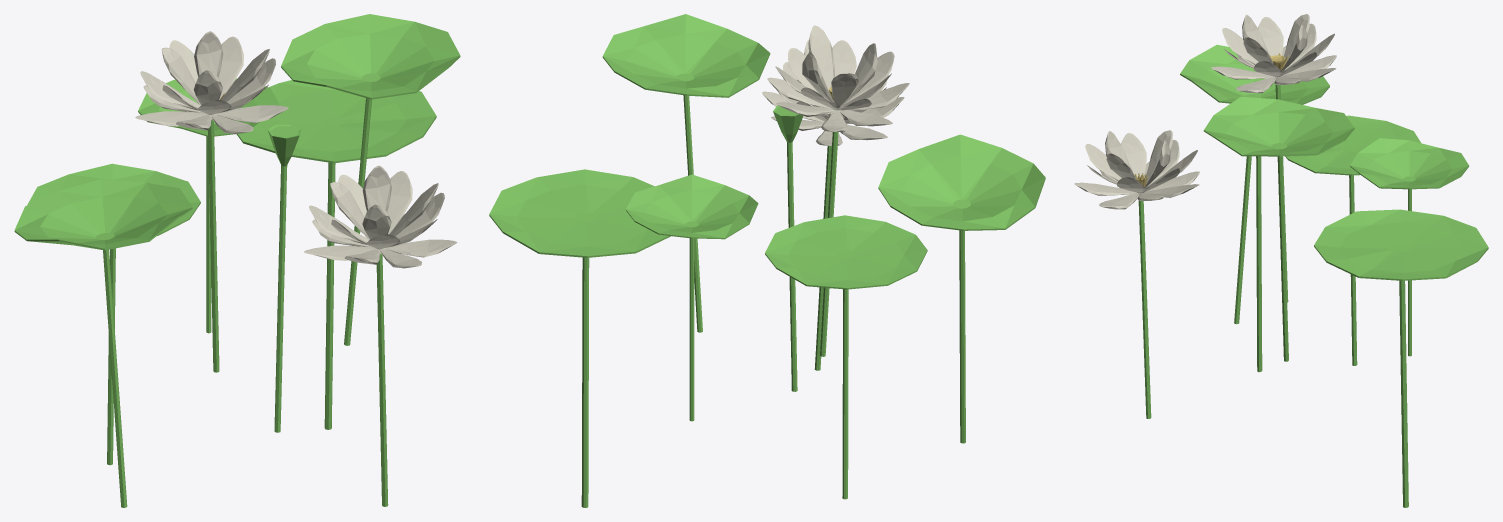
Rendered from lotusScene.dae.
3 renders of one model, left to right at view 1: azimuth 30°, elevation 25°; view 2: azimuth 150°, elevation 25°; view 3: azimuth 270°, elevation 25°, orthographic. The views are drawn at different scales.
Visible parts, largest first — view 1: Cylinder_007, Cylinder, Cylinder_013, Cylinder_015, Cylinder_005, Cylinder_002, Cylinder_011, Cylinder_012, Cylinder_003, Cylinder_014, Cylinder_009, Cylinder_006 (+2 smaller); view 2: Cylinder, Cylinder_013, Cylinder_007, Cylinder_011, Cylinder_005, Cylinder_009, Cylinder_015, Cylinder_002, Cylinder_012, Cylinder_010, Cylinder_008, Cylinder_006 (+2 smaller); view 3: Cylinder_013, Cylinder_007, Cylinder_015, Cylinder_005, Cylinder_009, Cylinder, Cylinder_011, Cylinder_012, Cylinder_014, Cylinder_002, Cylinder_006, Cylinder_010.
Boxes of the visible parts, x1,y1,x2,y2 form: Cylinder_007: [281, 14, 460, 99]; Cylinder: [14, 179, 192, 507]; Cylinder_013: [236, 80, 436, 163]; Cylinder_015: [304, 165, 457, 268]; Cylinder_005: [135, 31, 288, 133]; Cylinder_002: [267, 124, 301, 432]; Cylinder_011: [27, 163, 200, 235]; Cylinder_012: [324, 162, 335, 429]; Cylinder_003: [208, 119, 219, 372]; Cylinder_014: [376, 253, 388, 506]; Cylinder_009: [138, 78, 279, 136]; Cylinder_006: [344, 98, 371, 345]; Cylinder: [878, 134, 1045, 443]; Cylinder_013: [489, 169, 670, 257]; Cylinder_007: [602, 14, 770, 97]; Cylinder_011: [765, 215, 927, 289]; Cylinder_005: [767, 25, 909, 132]; Cylinder_009: [626, 174, 758, 239]; Cylinder_015: [762, 39, 904, 145]; Cylinder_002: [773, 105, 803, 391]; Cylinder_012: [581, 257, 589, 507]; Cylinder_010: [842, 289, 848, 499]; Cylinder_008: [689, 238, 694, 421]; Cylinder_006: [683, 95, 702, 332]; Cylinder_013: [1314, 209, 1488, 280]; Cylinder_007: [1203, 96, 1354, 156]; Cylinder_015: [1074, 130, 1199, 209]; Cylinder_005: [1211, 14, 1336, 93]; Cylinder_009: [1350, 138, 1469, 189]; Cylinder: [1180, 44, 1329, 324]; Cylinder_011: [1285, 115, 1420, 175]; Cylinder_012: [1399, 280, 1408, 507]; Cylinder_014: [1138, 200, 1151, 418]; Cylinder_002: [1256, 156, 1262, 372]; Cylinder_006: [1277, 156, 1288, 361]; Cylinder_010: [1349, 175, 1357, 365].
Bounding box in the file's own units: 18.39 × 16.25 × 17.67.
